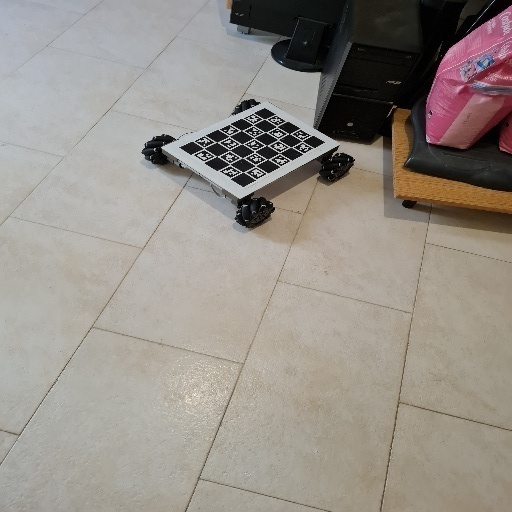Omniwheel: (143, 99, 357, 231)
